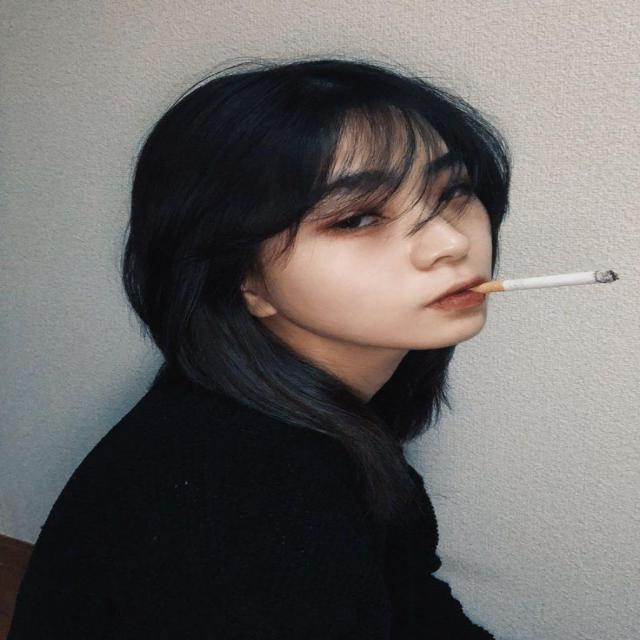cigarette: (442, 253, 632, 313)
